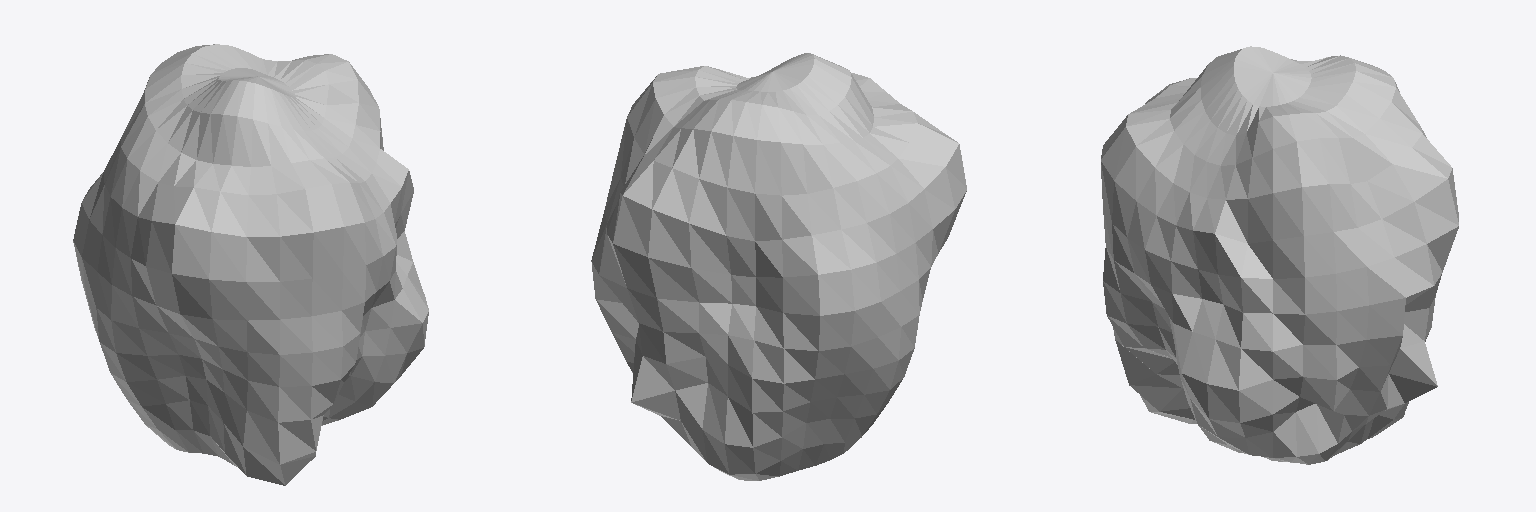
File: Cotton candy.obj
3 renders of one model, left to right at view 1: azimuth 30°, elevation 25°; view 2: azimuth 150°, elevation 25°; view 3: azimuth 270°, elevation 25°, orthographic.
Parts seen in each view (by area): view 1: Sphere001; view 2: Sphere001; view 3: Sphere001.
Boxes of the visible parts, box(x1,y1,x2,y2) form: Sphere001: box(73, 44, 428, 485); Sphere001: box(591, 53, 966, 480); Sphere001: box(1101, 46, 1458, 464).
Size of the model in its own units: 653855 by 816853 by 683223.